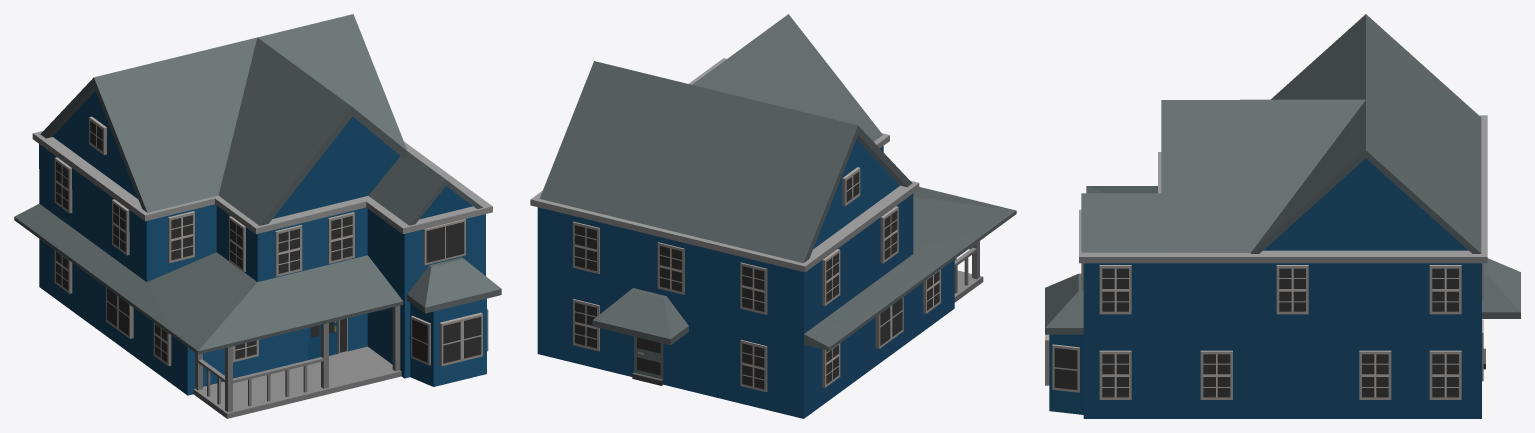
Rendered from big_house3.obj.
The picture shows the model from 3 angles, left to right: view 1: azimuth 30°, elevation 25°; view 2: azimuth 150°, elevation 25°; view 3: azimuth 270°, elevation 25°; orthographic projection. The views are drawn at different scales.
Visible parts, largest first — view 1: ST_Building_House_07_Untitled; view 2: ST_Building_House_07_Untitled; view 3: ST_Building_House_07_Untitled.
Boxes of the visible parts, x1,y1,x2,y2 form: ST_Building_House_07_Untitled: [14, 14, 501, 418]; ST_Building_House_07_Untitled: [530, 14, 1016, 418]; ST_Building_House_07_Untitled: [1045, 14, 1520, 418].
Bounding box in the file's own units: 19.56 × 15.98 × 25.71.
Materials: 1 (1 with a texture image).
